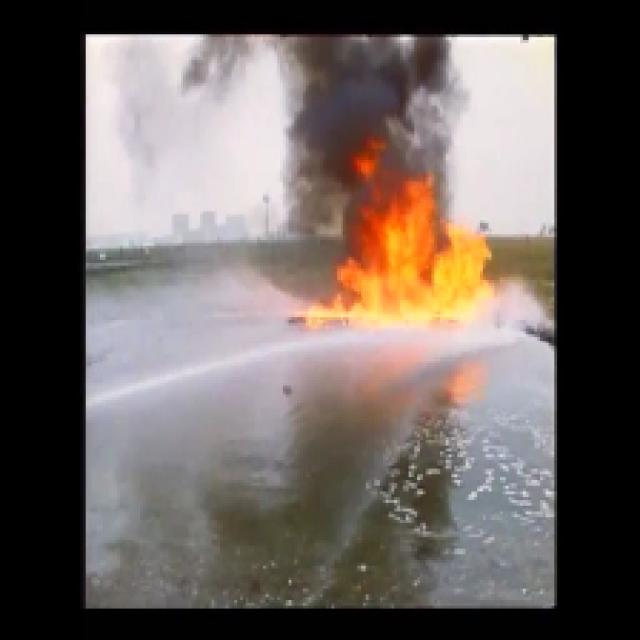fire: (339, 220, 491, 303)
smoke: (296, 45, 425, 181)
